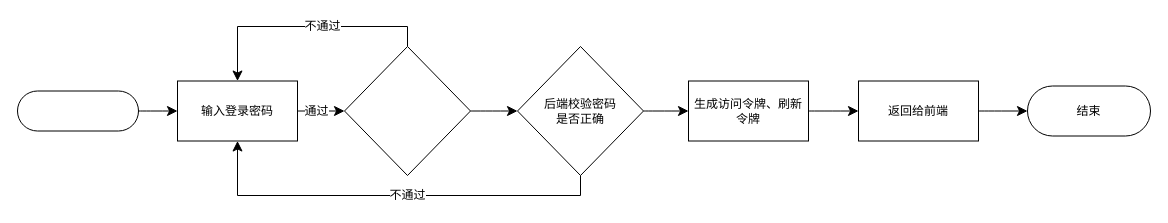
Some shapes in this 1168 by 223 pixel diagram are drawn without their labels. Each missing label, with the centre of its shape:
前端校验格式: the point at 407,111
开始: the point at 77,110
